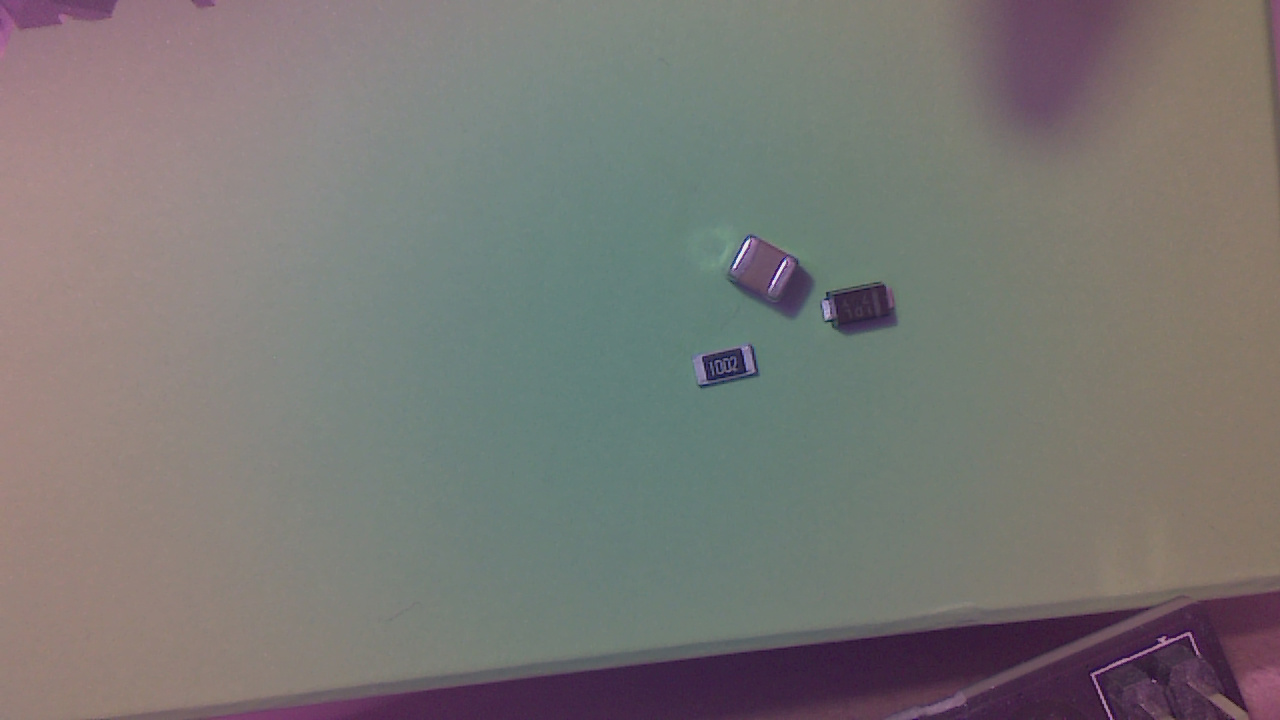Condensator: (730, 243, 805, 310)
Diode: (822, 286, 911, 334)
Resistor: (695, 349, 763, 394)
